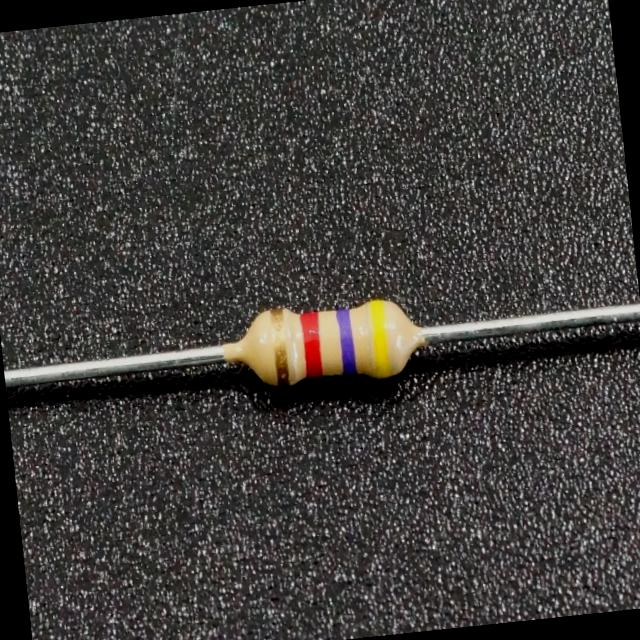Resistor: (224, 299, 424, 385)
gold: (269, 306, 288, 396)
purple: (336, 307, 356, 378)
red: (298, 310, 323, 383)
yellow: (368, 300, 391, 381)
